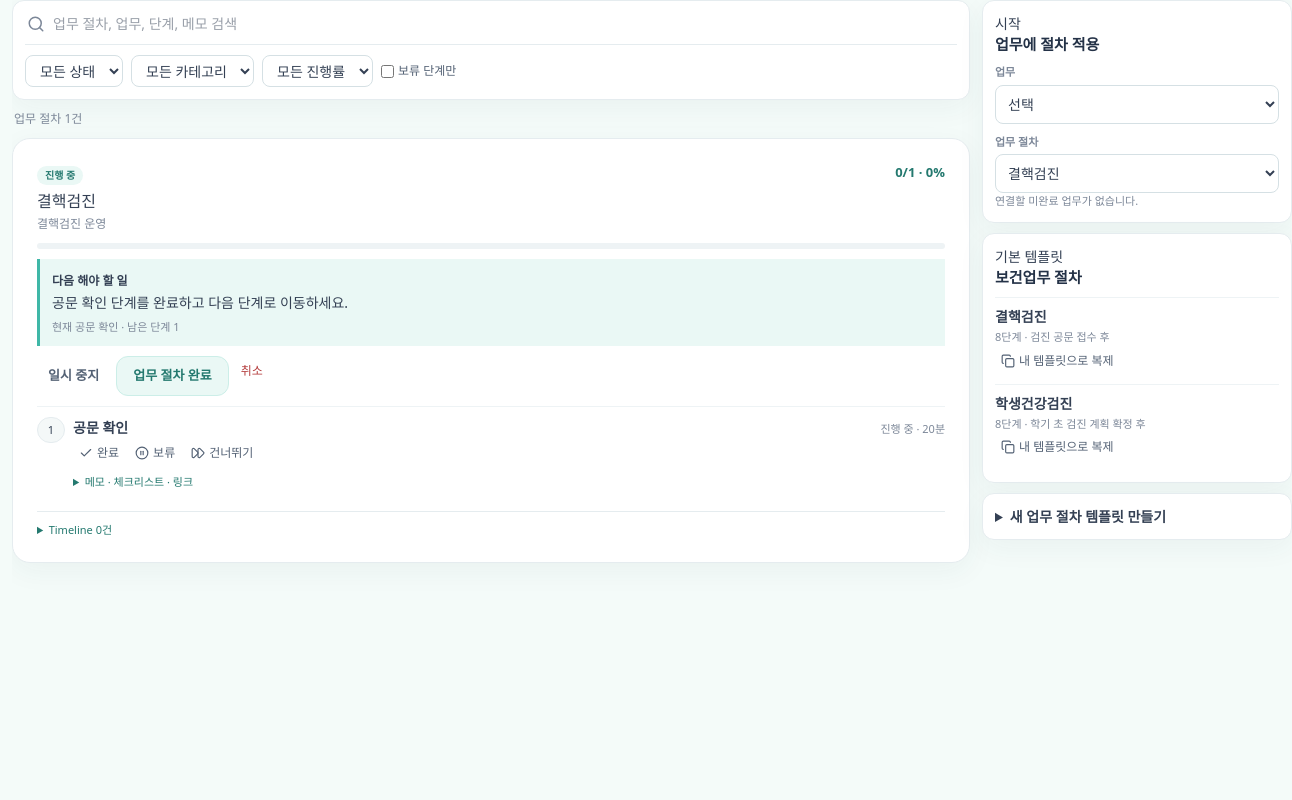
Test case: WorkflowWorkspace › shows progress and filters by step memo
Expected: the text "현재 공문 확인 · 남은 단계 1" is shown, top-left (52, 319), bottom-right (180, 334)
Expected: the button "완료" is shown, top-left (73, 438), bottom-right (125, 468)
Type "시행 일정" into the search field with placeholder "업무 절차, 업무, 단계, 메모 검색".
click(504, 24); type("시행 일정")  # box top-left (53, 13), bottom-right (955, 34)
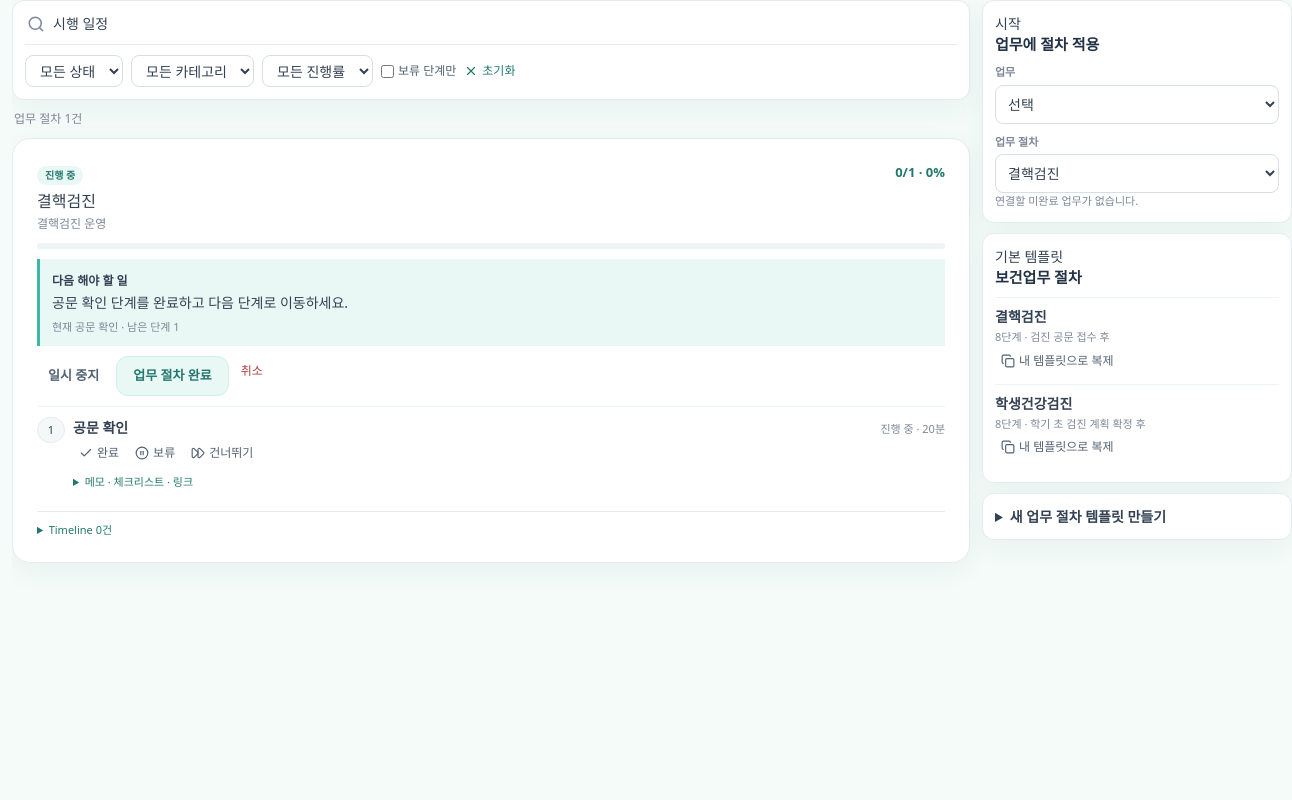
Expected: the text with class "task-results-summary" reads "업무 절차 1건", top-left (14, 110), bottom-right (82, 127)
Replace the text in the search field with placeholder "업무 절차, 업무, 단계, 메모 검색" with "없는 업무" at (504, 24), box top-left (53, 13), bottom-right (955, 34)
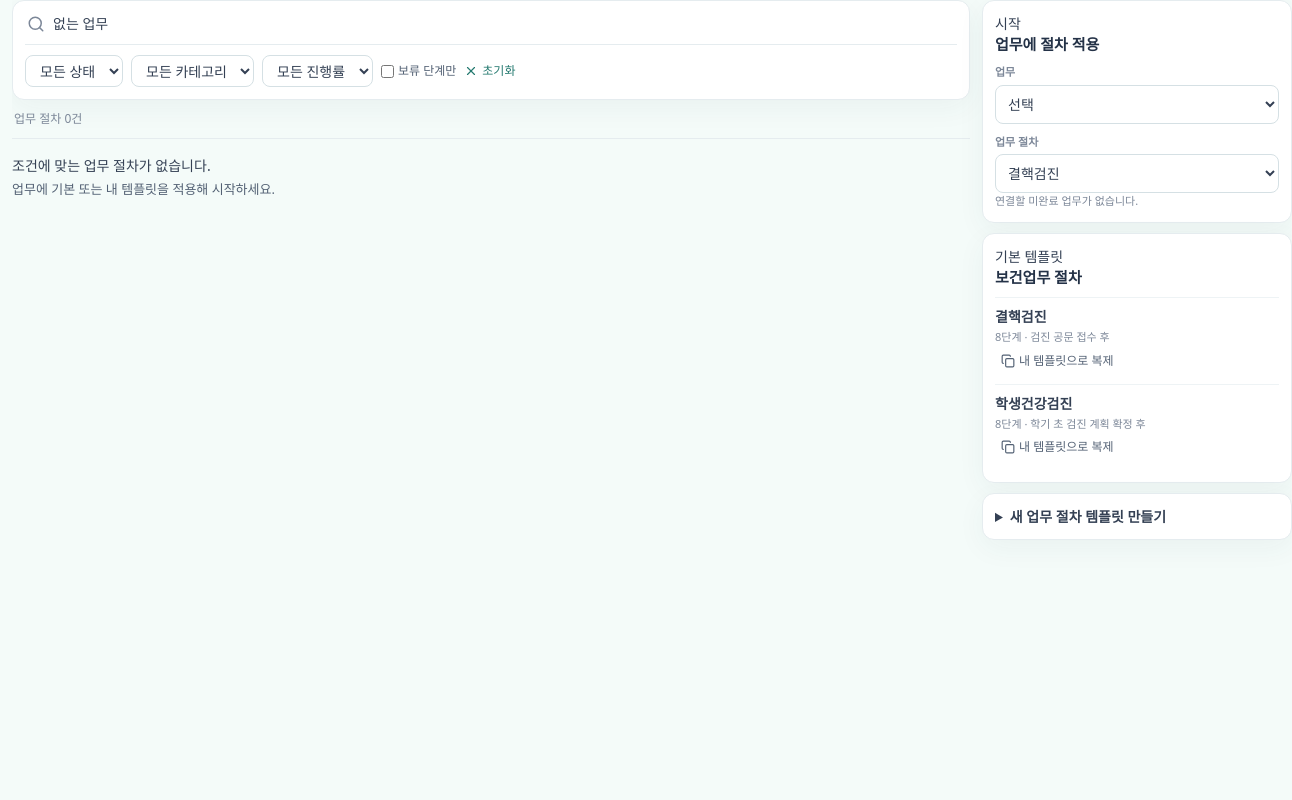
Expected: the text with class "task-results-summary" reads "업무 절차 0건", top-left (14, 110), bottom-right (82, 127)
